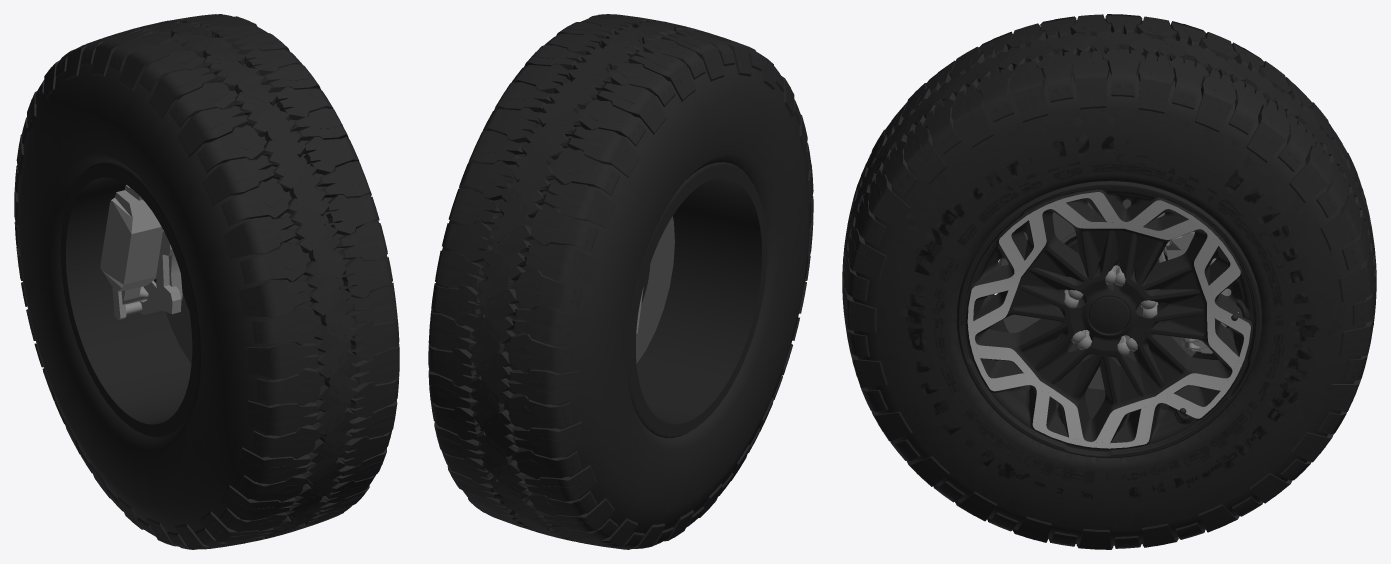
Rendered from Wheel1A_3D.fbx.
3 renders of one model, left to right at view 1: azimuth 30°, elevation 25°; view 2: azimuth 150°, elevation 25°; view 3: azimuth 270°, elevation 25°, orthographic.
Parts seen in each view (by area): view 1: Combined3DWheel_3DWheel_Front_L Instance1_Src4, CombinedCalliperZoneCalliperZone_Front_L Instance1_Src4; view 2: Combined3DWheel_3DWheel_Front_L Instance1_Src4; view 3: Combined3DWheel_3DWheel_Front_L Instance1_Src4, CombinedCalliperZoneCalliperZone_Front_L Instance1_Src4.
Part boxes in pixels (x1,y1,x2,y2): Combined3DWheel_3DWheel_Front_L Instance1_Src4: (14,14,399,549); CombinedCalliperZoneCalliperZone_Front_L Instance1_Src4: (100,185,182,319); Combined3DWheel_3DWheel_Front_L Instance1_Src4: (428,14,813,549); Combined3DWheel_3DWheel_Front_L Instance1_Src4: (842,14,1376,549); CombinedCalliperZoneCalliperZone_Front_L Instance1_Src4: (1157,212,1231,353).
Size of the model in its own units: 0.2972 by 0.8305 by 0.8305.
Materials: 2 (2 with a texture image).
